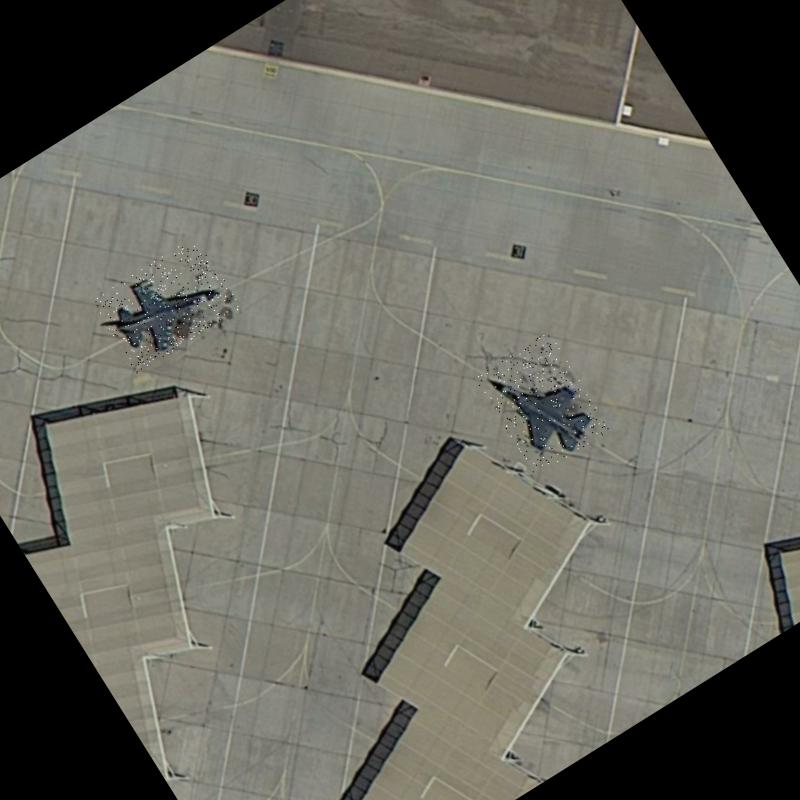A5: (91, 235, 242, 374), (474, 330, 612, 478)
